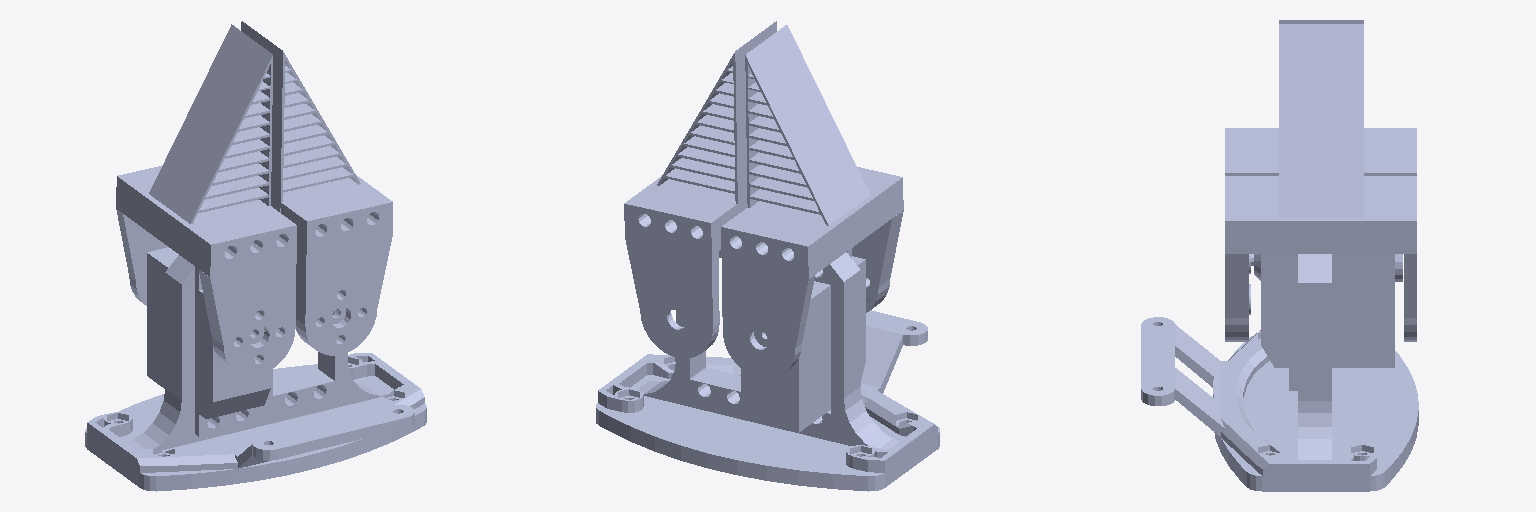
URDF robot description (new_gripper_urdf):
<?xml version="1.0" encoding="utf-8"?>
<!-- This URDF was automatically created by SolidWorks to URDF Exporter! Originally created by [author] ([email redacted]) 
     Commit Version: 1.6.0-1-g15f4949  Build Version: 1.6.7594.29634
     For more information, please see http://wiki.ros.org/sw_urdf_exporter -->
<robot
  name="new_gripper_urdf">
  <link
    name="base_holder_link">
    <inertial>
      <origin
        xyz="-0.0154913714783607 0.0138130469937227 -0.00019122623023348"
        rpy="0 0 0" />
      <mass
        value="0.325166075012768" />
      <inertia
        ixx="0.000176422818214742"
        ixy="-1.14630099641922E-09"
        ixz="-9.58997413681059E-09"
        iyy="0.000240392345030757"
        iyz="-7.04160665163785E-07"
        izz="0.000314342023674162" />
    </inertial>
    <visual>
      <origin
        xyz="0 0 0"
        rpy="0 0 0" />
      <geometry>
        <mesh
          filename="package://new_gripper_urdf/meshes/base_holder_link.STL" />
      </geometry>
      <material
        name="">
        <color
          rgba="0.792156862745098 0.819607843137255 0.933333333333333 1" />
      </material>
    </visual>
    <collision>
      <origin
        xyz="0 0 0"
        rpy="0 0 0" />
      <geometry>
        <mesh
          filename="package://new_gripper_urdf/meshes/base_holder_link.STL" />
      </geometry>
    </collision>
  </link>
  <link
    name="servo_left_link">
    <inertial>
      <origin
        xyz="0.020150145575314 0.0101 0.0198454858796802"
        rpy="0 0 0" />
      <mass
        value="0.0338275279922958" />
      <inertia
        ixx="5.70756586656377E-06"
        ixy="5.80148509440568E-23"
        ixz="8.86766496554433E-08"
        iyy="9.51111668532985E-06"
        iyz="-6.32864720294365E-23"
        izz="6.07620941885605E-06" />
    </inertial>
    <visual>
      <origin
        xyz="0 0 0"
        rpy="0 0 0" />
      <geometry>
        <mesh
          filename="package://new_gripper_urdf/meshes/servo_left_link.STL" />
      </geometry>
      <material
        name="">
        <color
          rgba="0.792156862745098 0.819607843137255 0.933333333333333 1" />
      </material>
    </visual>
    <collision>
      <origin
        xyz="0 0 0"
        rpy="0 0 0" />
      <geometry>
        <mesh
          filename="package://new_gripper_urdf/meshes/servo_left_link.STL" />
      </geometry>
    </collision>
  </link>
  <joint
    name="servo_left_joint"
    type="fixed">
    <origin
      xyz="-0.0397908009150208 0.0238 0.0564"
      rpy="1.5707963267949 1.5707963267949 0" />
    <parent
      link="base_holder_link" />
    <child
      link="servo_left_link" />
    <axis
      xyz="0 0 0" />
  </joint>
  <link
    name="left_finger_fastener_link">
    <inertial>
      <origin
        xyz="0.00226372174067158 0.0199992839781028 -0.0234471080962139"
        rpy="0 0 0" />
      <mass
        value="0.151196981912259" />
      <inertia
        ixx="2.85195555313607E-05"
        ixy="-1.97852751743602E-06"
        ixz="-3.56804581083221E-07"
        iyy="1.94075397459348E-05"
        iyz="-8.05261824668591E-07"
        izz="3.17989362126204E-05" />
    </inertial>
    <visual>
      <origin
        xyz="0 0 0"
        rpy="0 0 0" />
      <geometry>
        <mesh
          filename="package://new_gripper_urdf/meshes/left_finger_fastener_link.STL" />
      </geometry>
      <material
        name="">
        <color
          rgba="0.792156862745098 0.819607843137255 0.933333333333333 1" />
      </material>
    </visual>
    <collision>
      <origin
        xyz="0 0 0"
        rpy="0 0 0" />
      <geometry>
        <mesh
          filename="package://new_gripper_urdf/meshes/left_finger_fastener_link.STL" />
      </geometry>
    </collision>
  </link>
  <joint
    name="left_finger_fastener_joint"
    type="continuous">
    <origin
      xyz="0.0102000000000002 0.0101 0"
      rpy="3.14159265358979 0 -1.58659399800857" />
    <parent
      link="servo_left_link" />
    <child
      link="left_finger_fastener_link" />
    <axis
      xyz="0 0 1" />
  </joint>
  <link
    name="left_finger_link">
    <inertial>
      <origin
        xyz="0.0169959009662644 -0.0172451544705946 0.018"
        rpy="0 0 0" />
      <mass
        value="0.0684728752073224" />
      <inertia
        ixx="1.92584731118216E-05"
        ixy="3.85525749503484E-06"
        ixz="2.91277822181814E-20"
        iyy="8.23467568536262E-06"
        iyz="-1.04607349996278E-20"
        izz="2.03605576297548E-05" />
    </inertial>
    <visual>
      <origin
        xyz="0 0 0"
        rpy="0 0 0" />
      <geometry>
        <mesh
          filename="package://new_gripper_urdf/meshes/left_finger_link.STL" />
      </geometry>
      <material
        name="">
        <color
          rgba="0.792156862745098 0.819607843137255 0.933333333333333 1" />
      </material>
    </visual>
    <collision>
      <origin
        xyz="0 0 0"
        rpy="0 0 0" />
      <geometry>
        <mesh
          filename="package://new_gripper_urdf/meshes/left_finger_link.STL" />
      </geometry>
    </collision>
  </link>
  <joint
    name="left_finger_joint"
    type="fixed">
    <origin
      xyz="0.0154362314517575 0.0263000000000004 -0.0399"
      rpy="0 0 -3.14159265358979" />
    <parent
      link="left_finger_fastener_link" />
    <child
      link="left_finger_link" />
    <axis
      xyz="0 0 0" />
  </joint>
  <link
    name="servo_right_link">
    <inertial>
      <origin
        xyz="0.020150145575314 0.0101 0.0198454858796802"
        rpy="0 0 0" />
      <mass
        value="0.0338275279922958" />
      <inertia
        ixx="5.70756586656377E-06"
        ixy="7.85985176003018E-23"
        ixz="8.86766496554432E-08"
        iyy="9.51111668532985E-06"
        iyz="-1.83701156015215E-22"
        izz="6.07620941885605E-06" />
    </inertial>
    <visual>
      <origin
        xyz="0 0 0"
        rpy="0 0 0" />
      <geometry>
        <mesh
          filename="package://new_gripper_urdf/meshes/servo_right_link.STL" />
      </geometry>
      <material
        name="">
        <color
          rgba="0.792156862745098 0.819607843137255 0.933333333333333 1" />
      </material>
    </visual>
    <collision>
      <origin
        xyz="0 0 0"
        rpy="0 0 0" />
      <geometry>
        <mesh
          filename="package://new_gripper_urdf/meshes/servo_right_link.STL" />
      </geometry>
    </collision>
  </link>
  <joint
    name="servo_right_joint"
    type="fixed">
    <origin
      xyz="-0.0113908009150208 0.0238 0.0564"
      rpy="1.5707963267949 1.5707963267949 0" />
    <parent
      link="base_holder_link" />
    <child
      link="servo_right_link" />
    <axis
      xyz="0 0 0" />
  </joint>
  <link
    name="right_finger_fastener_link">
    <inertial>
      <origin
        xyz="-0.00226372174067153 0.0199992839781026 -0.0234471080962139"
        rpy="0 0 0" />
      <mass
        value="0.151196981912259" />
      <inertia
        ixx="2.85195555313607E-05"
        ixy="1.97852751743602E-06"
        ixz="3.56804581083222E-07"
        iyy="1.94075397459348E-05"
        iyz="-8.052618246686E-07"
        izz="3.17989362126203E-05" />
    </inertial>
    <visual>
      <origin
        xyz="0 0 0"
        rpy="0 0 0" />
      <geometry>
        <mesh
          filename="package://new_gripper_urdf/meshes/right_finger_fastener_link.STL" />
      </geometry>
      <material
        name="">
        <color
          rgba="0.792156862745098 0.819607843137255 0.933333333333333 1" />
      </material>
    </visual>
    <collision>
      <origin
        xyz="0 0 0"
        rpy="0 0 0" />
      <geometry>
        <mesh
          filename="package://new_gripper_urdf/meshes/right_finger_fastener_link.STL" />
      </geometry>
    </collision>
  </link>
  <joint
    name="right_finger_fastener_joint"
    type="continuous">
    <origin
      xyz="0.0102000000000001 0.0101 0"
      rpy="3.14159265358979 0 -1.58829722752844" />
    <parent
      link="servo_right_link" />
    <child
      link="right_finger_fastener_link" />
    <axis
      xyz="0 0 1" />
  </joint>
  <link
    name="right_finger_link">
    <inertial>
      <origin
        xyz="0.0169959009662644 -0.0172451544705946 0.018"
        rpy="0 0 0" />
      <mass
        value="0.0684728752073222" />
      <inertia
        ixx="1.92584731118215E-05"
        ixy="3.85525749503483E-06"
        ixz="2.57564826261444E-20"
        iyy="8.23467568536258E-06"
        iyz="-2.12579001275468E-21"
        izz="2.03605576297547E-05" />
    </inertial>
    <visual>
      <origin
        xyz="0 0 0"
        rpy="0 0 0" />
      <geometry>
        <mesh
          filename="package://new_gripper_urdf/meshes/right_finger_link.STL" />
      </geometry>
      <material
        name="">
        <color
          rgba="0.792156862745098 0.819607843137255 0.933333333333333 1" />
      </material>
    </visual>
    <collision>
      <origin
        xyz="0 0 0"
        rpy="0 0 0" />
      <geometry>
        <mesh
          filename="package://new_gripper_urdf/meshes/right_finger_link.STL" />
      </geometry>
    </collision>
  </link>
  <joint
    name="right_finger_joint"
    type="fixed">
    <origin
      xyz="-0.0154362314517573 0.0263 -0.00390000000000003"
      rpy="3.14159265358979 0 0" />
    <parent
      link="right_finger_fastener_link" />
    <child
      link="right_finger_link" />
    <axis
      xyz="0 0 0" />
  </joint>
  <link
    name="camera_holder_link">
    <inertial>
      <origin
        xyz="-0.0154558187135768 0.0264554443238969 0.00610502534126566"
        rpy="0 0 0" />
      <mass
        value="0.0575401627450105" />
      <inertia
        ixx="1.88760755233664E-05"
        ixy="6.42179161095357E-08"
        ixz="6.70844267074005E-09"
        iyy="4.24323271397149E-05"
        iyz="-4.2719184355183E-06"
        izz="5.78252549958773E-05" />
    </inertial>
    <visual>
      <origin
        xyz="0 0 0"
        rpy="0 0 0" />
      <geometry>
        <mesh
          filename="package://new_gripper_urdf/meshes/camera_holder_link.STL" />
      </geometry>
      <material
        name="">
        <color
          rgba="0.792156862745098 0.819607843137255 0.933333333333333 1" />
      </material>
    </visual>
    <collision>
      <origin
        xyz="0 0 0"
        rpy="0 0 0" />
      <geometry>
        <mesh
          filename="package://new_gripper_urdf/meshes/camera_holder_link.STL" />
      </geometry>
    </collision>
  </link>
  <joint
    name="camera_holder_joint"
    type="fixed">
    <origin
      xyz="-0.0309812074459294 0.0006459809840905 0.005"
      rpy="0 0 -3.14033747664133" />
    <parent
      link="base_holder_link" />
    <child
      link="camera_holder_link" />
    <axis
      xyz="0 0 0" />
  </joint>
</robot>

--- Render facts (derived) ---
3 views of the same robot in one strip: view 1: azimuth 30°, elevation 25°; view 2: azimuth 150°, elevation 25°; view 3: azimuth 270°, elevation 25° (orthographic).
Robot: new_gripper_urdf — 8 links, 7 joints (2 continuous, 5 fixed); root link base_holder_link; default pose: every joint at zero.
Visible links, largest first — view 1: base_holder_link, left_finger_fastener_link, left_finger_link, right_finger_fastener_link, camera_holder_link, servo_left_link, right_finger_link; view 2: base_holder_link, left_finger_fastener_link, left_finger_link, right_finger_fastener_link, camera_holder_link, right_finger_link, servo_left_link; view 3: base_holder_link, right_finger_link, right_finger_fastener_link, camera_holder_link, servo_left_link, left_finger_fastener_link.
Link boxes in pixels (<box>): base_holder_link: <box>85,255,426,491</box>; left_finger_fastener_link: <box>116,165,296,375</box>; left_finger_link: <box>149,24,272,223</box>; right_finger_fastener_link: <box>281,175,392,355</box>; camera_holder_link: <box>87,353,424,472</box>; servo_left_link: <box>147,247,270,436</box>; right_finger_link: <box>241,21,360,212</box>; base_holder_link: <box>596,250,939,491</box>; left_finger_fastener_link: <box>721,167,903,378</box>; left_finger_link: <box>745,25,869,225</box>; right_finger_fastener_link: <box>624,176,737,358</box>; camera_holder_link: <box>598,310,937,472</box>; right_finger_link: <box>657,21,776,213</box>; servo_left_link: <box>741,248,865,432</box>; base_holder_link: <box>1214,254,1418,491</box>; right_finger_link: <box>1279,24,1363,217</box>; right_finger_fastener_link: <box>1225,176,1416,341</box>; camera_holder_link: <box>1141,317,1376,475</box>; servo_left_link: <box>1251,254,1402,390</box>; left_finger_fastener_link: <box>1225,128,1416,273</box>.
Size in the robot's own frame: 0.0988 by 0.082 by 0.1307 metres.
Meshes: 8 distinct files referenced, 7 mesh visuals loaded (7 binary STL); not drawn: 1 (reference not matched to a file when rendering).